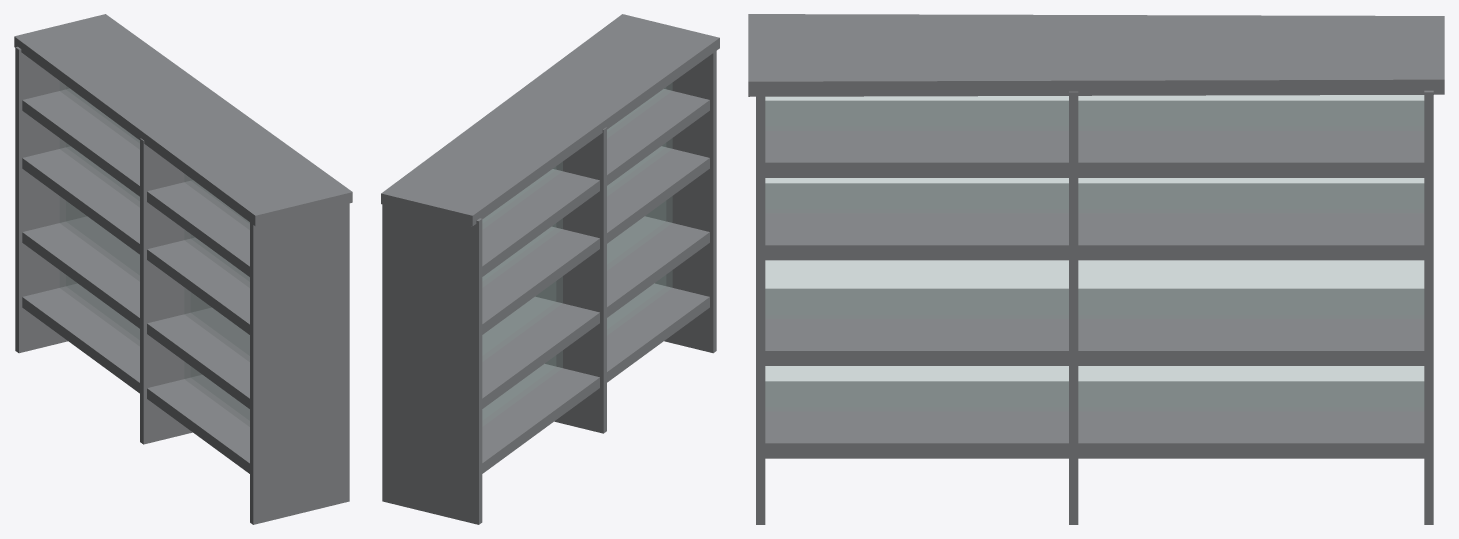
File: DeskShelf.fbx
The picture shows the model from 3 angles, left to right: view 1: azimuth 30°, elevation 25°; view 2: azimuth 150°, elevation 25°; view 3: azimuth 270°, elevation 25°; orthographic projection. The views are drawn at different scales.
Visible parts, largest first — view 1: DeskShelf_obj, polySurface9; view 2: DeskShelf_obj, polySurface9; view 3: DeskShelf_obj, polySurface9.
Part boxes in pixels (x1,y1,x2,y2): DeskShelf_obj: (14, 14, 352, 524); polySurface9: (60, 82, 249, 426); DeskShelf_obj: (381, 14, 719, 524); polySurface9: (482, 83, 671, 425); DeskShelf_obj: (748, 14, 1444, 524); polySurface9: (765, 95, 1423, 410).
Bounding box in the file's own units: 54.78 × 167 × 238.
